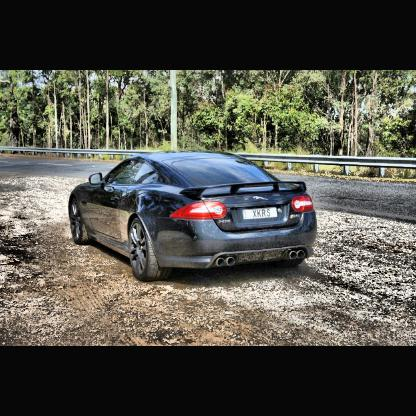Jaguar XK XKR 2012: (71, 155, 321, 284)
